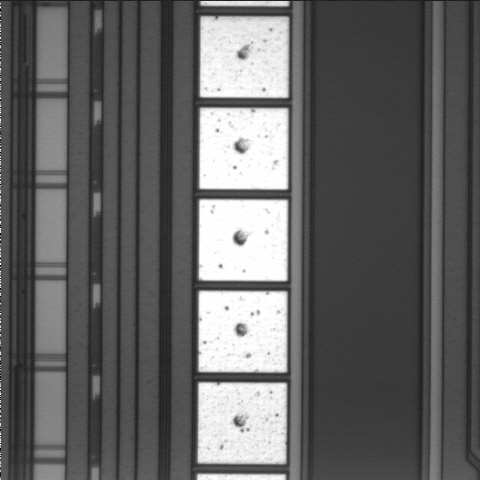pad: (199, 108, 288, 190), (199, 199, 288, 281), (198, 382, 287, 464), (200, 17, 289, 98), (199, 291, 287, 372)
